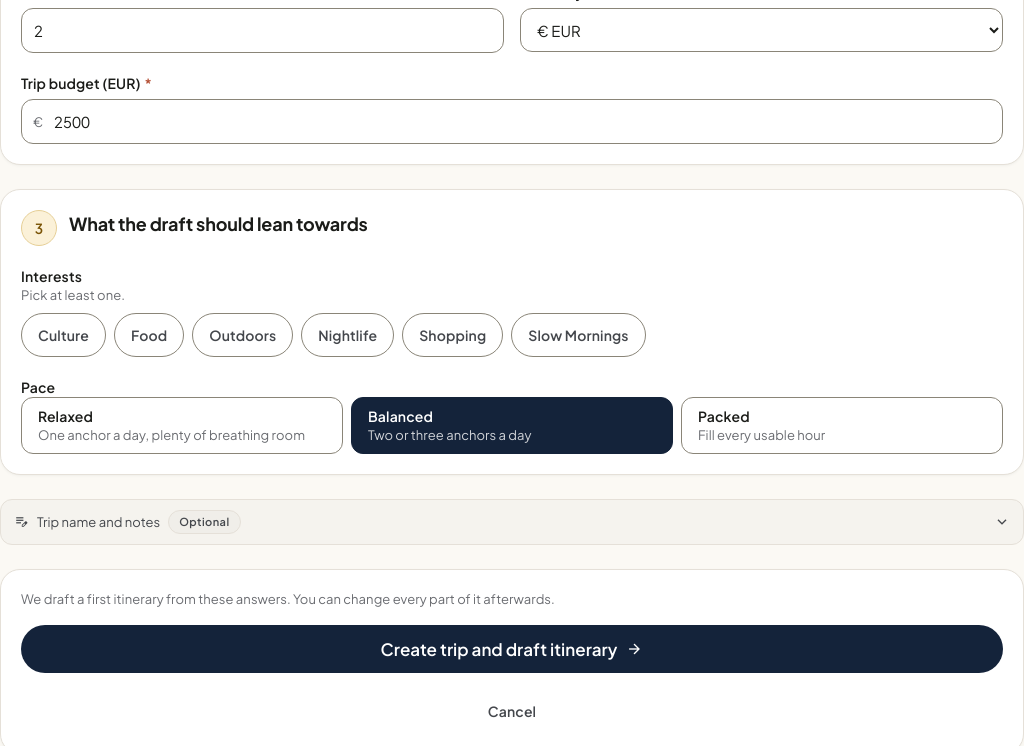
Scenario: CreateTripPage › refuses to create anything while the required answers are missing
This screenshot has width=1024, height=746.
(page scrolled)
Click the button "Create trip and draft itinerary". click: (512, 649)
box: [21,625,1003,673]
(page scrolled)
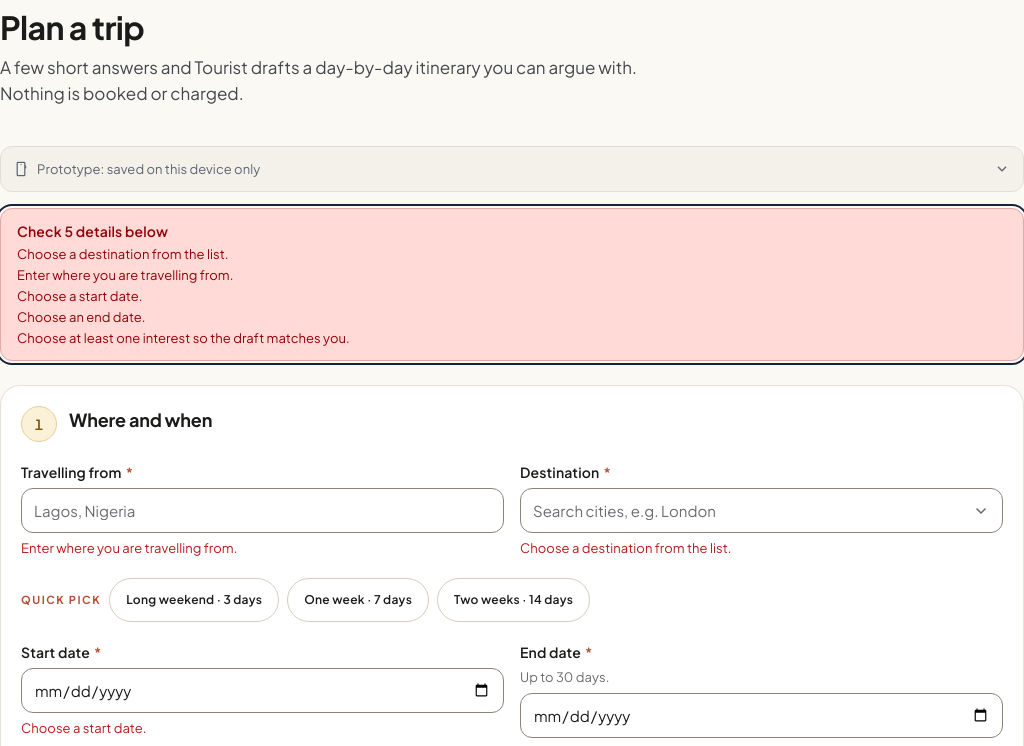
Check: the message shows "Check 5 details below", box [17,222,168,240]
Check: the message shows "Enter where you are travelling from.", box [17,267,234,283]
Check: the message shows "Choose a destination from the list.", box [17,246,229,262]
